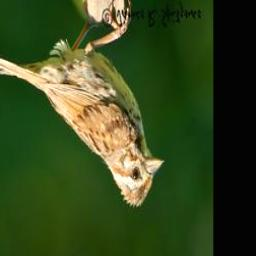Sparrow: (0, 0, 162, 210)
